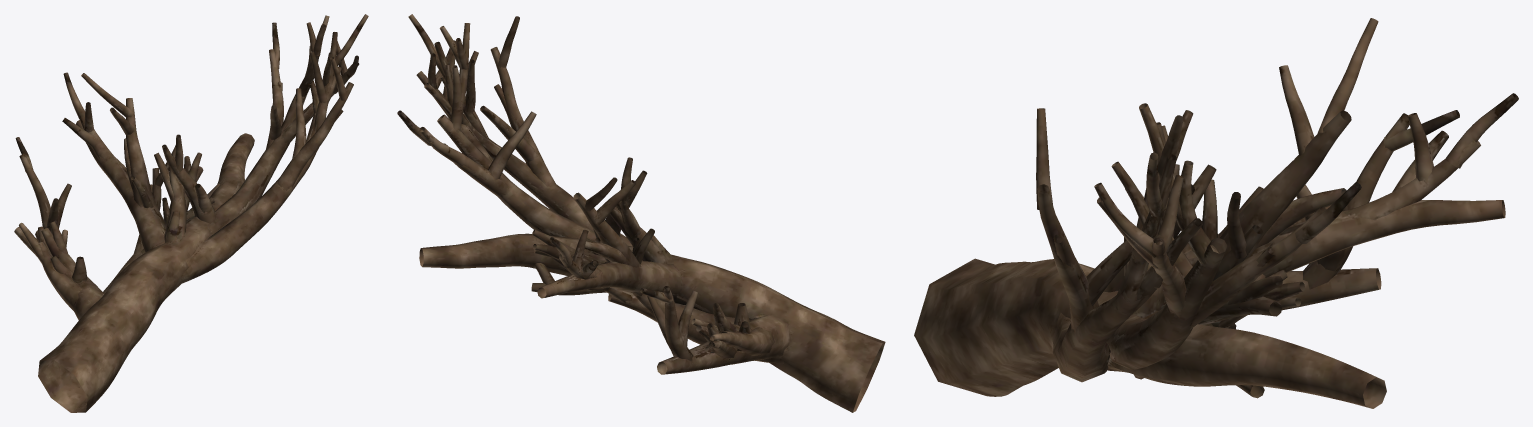
Rendered from wood_a.glb.
The picture shows the model from 3 angles, left to right: view 1: azimuth 30°, elevation 25°; view 2: azimuth 150°, elevation 25°; view 3: azimuth 270°, elevation 25°; orthographic projection. The views are drawn at different scales.
Visible parts, largest first — view 1: wood_a; view 2: wood_a; view 3: wood_a.
Boxes of the visible parts, x1,y1,x2,y2 form: wood_a: (14,14,368,412); wood_a: (397,14,885,412); wood_a: (914,18,1518,408).
Bounding box in the file's own units: 30.21 × 23.05 × 21.9.
Materials: 1 (1 with a texture image).
